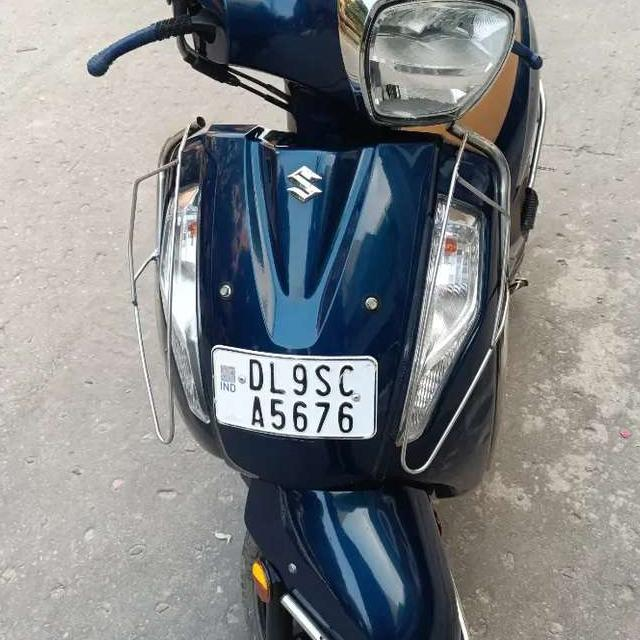Indian_Number_Plate: (214, 347, 375, 439)
